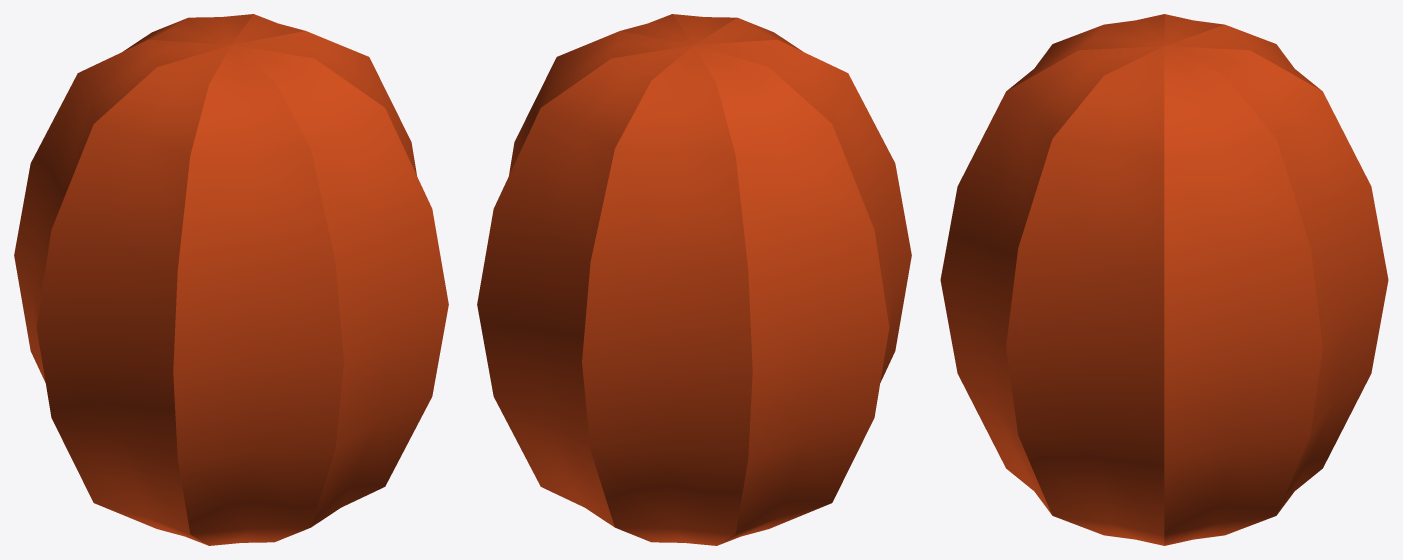
File: ChineseShop_Dif8_Sc2.fbx
The picture shows the model from 3 angles, left to right: view 1: azimuth 30°, elevation 25°; view 2: azimuth 150°, elevation 25°; view 3: azimuth 270°, elevation 25°; orthographic projection.
Visible parts, largest first — view 1: ChineseShop_Dif8_Sc2; view 2: ChineseShop_Dif8_Sc2; view 3: ChineseShop_Dif8_Sc2.
Part boxes in pixels (x1,y1,x2,y2): ChineseShop_Dif8_Sc2: (14, 14, 448, 545); ChineseShop_Dif8_Sc2: (477, 14, 911, 545); ChineseShop_Dif8_Sc2: (940, 14, 1388, 545).
Bounding box in the file's own units: 1.08 × 1.08 × 1.25.
